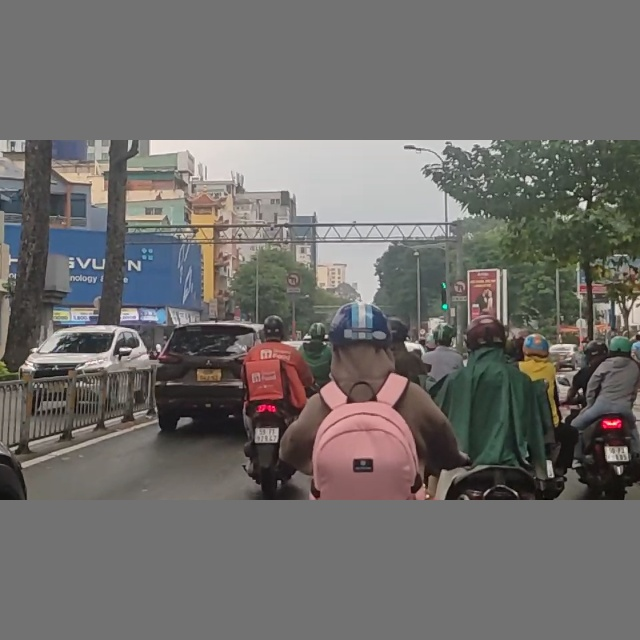P.124c: (453, 279, 468, 294), (286, 273, 301, 286)
